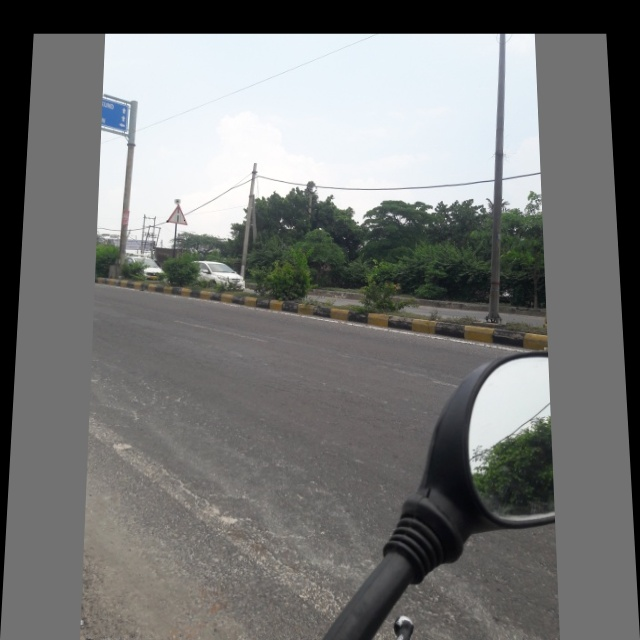Gap_in_Median: (165, 199, 190, 228)
